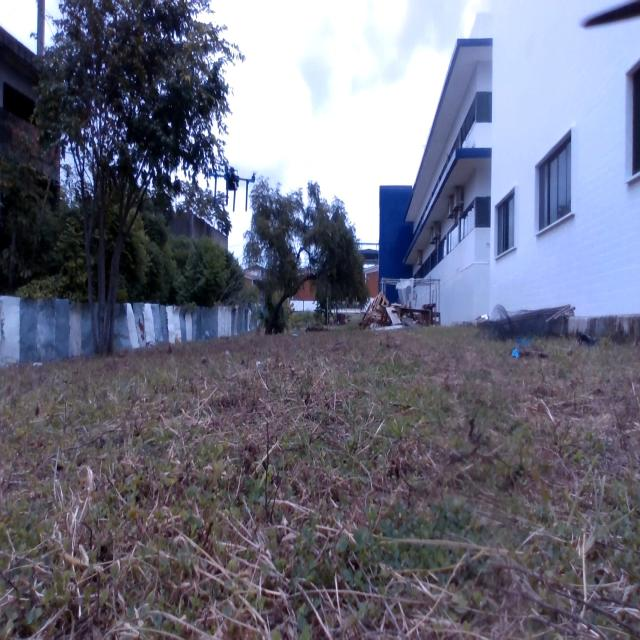-uav-: (187, 130, 269, 234)
